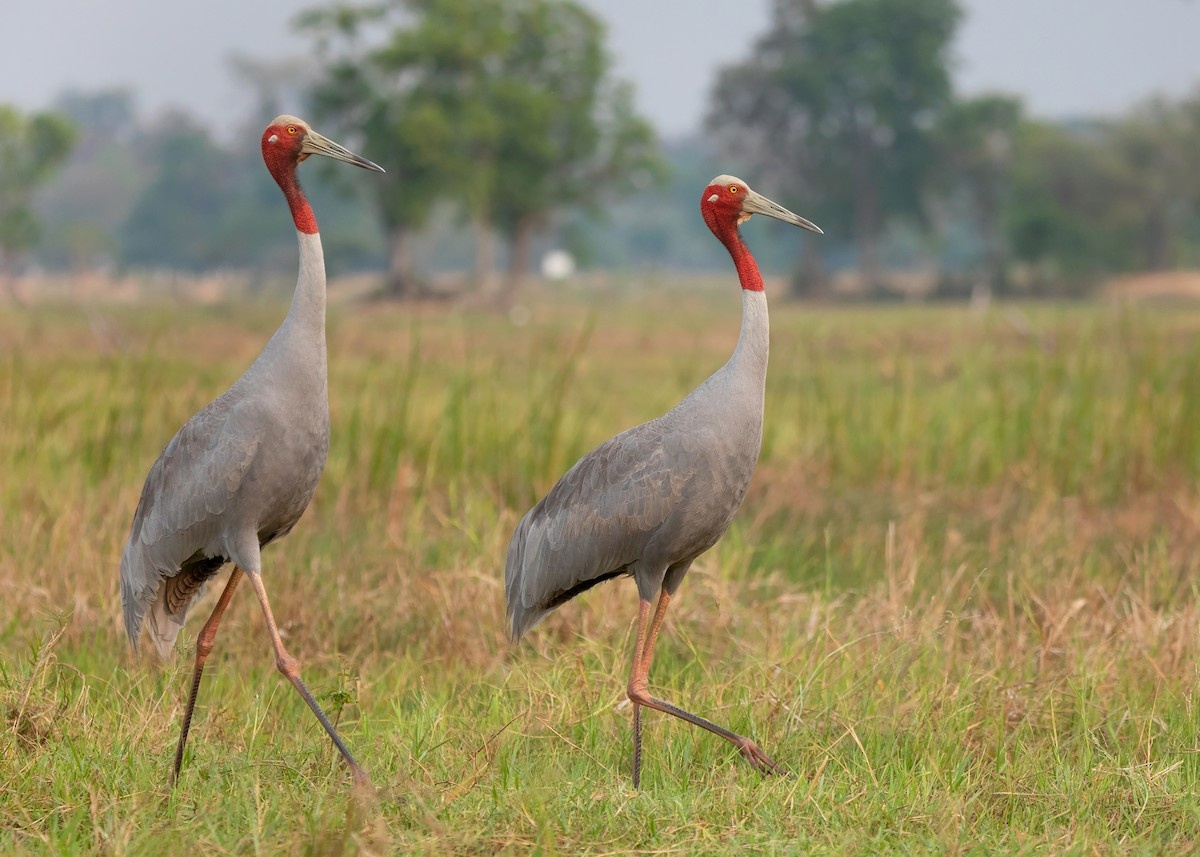crane: (503, 168, 831, 786), (115, 112, 404, 795)
